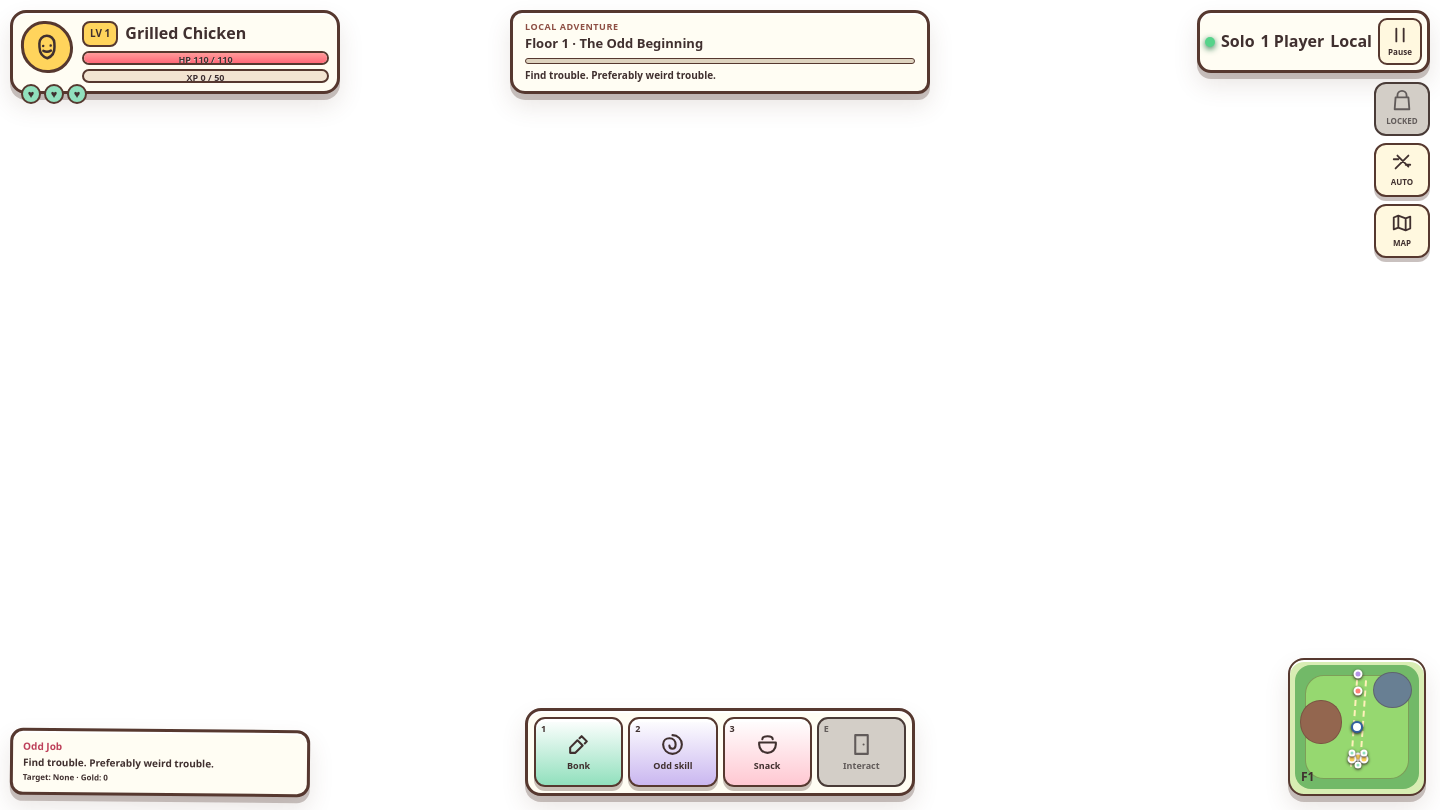
Scenario: HUD › toggles Auto Hunt and reflects bridge state
What coordinates should you click on to do the following:
click the button with aria-label "auto hunt"
I would click on:
 (1402, 170)
Its box is 1374,143 -> 1430,197.
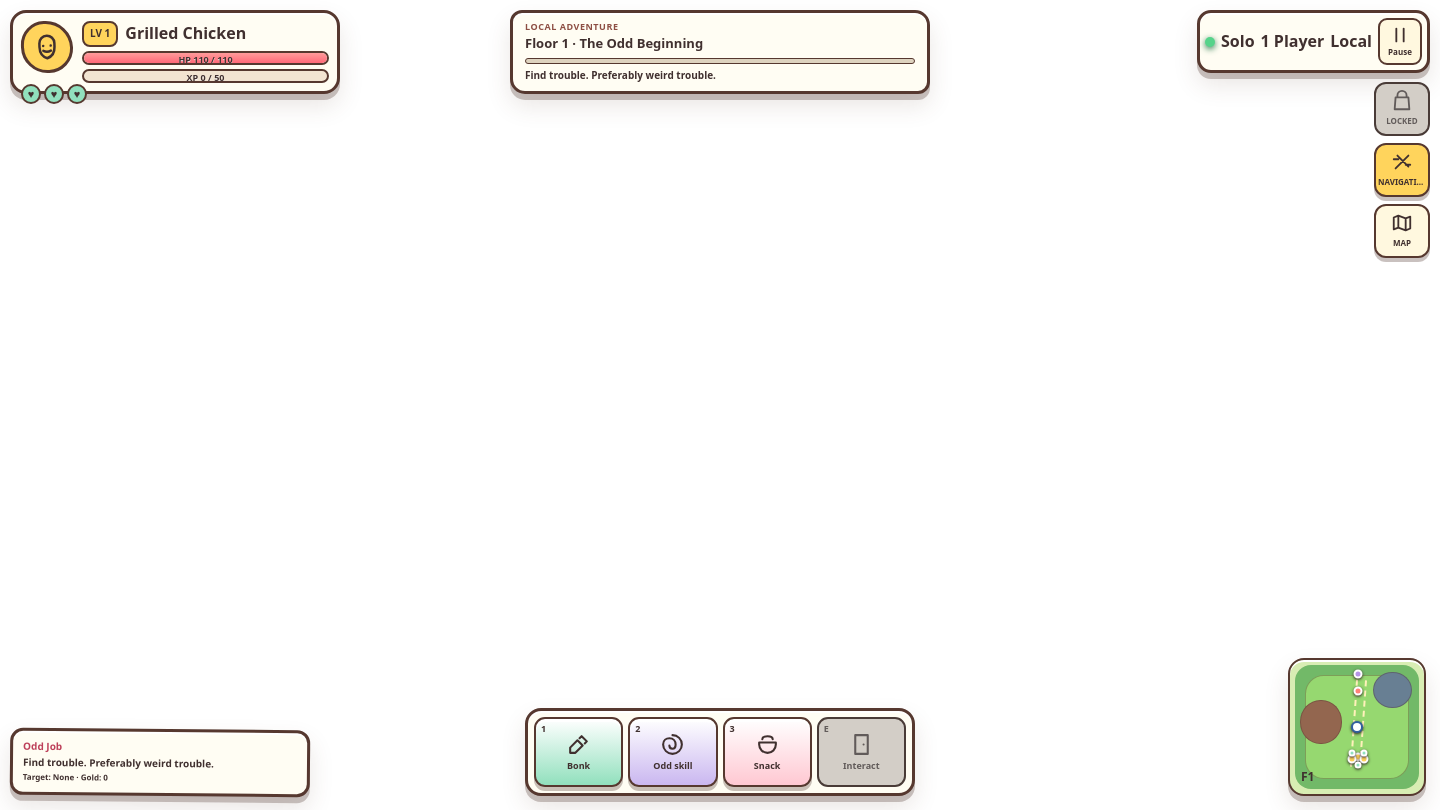
Now the text "NAVIGATING" is shown, box 1378,176 -> 1426,189
